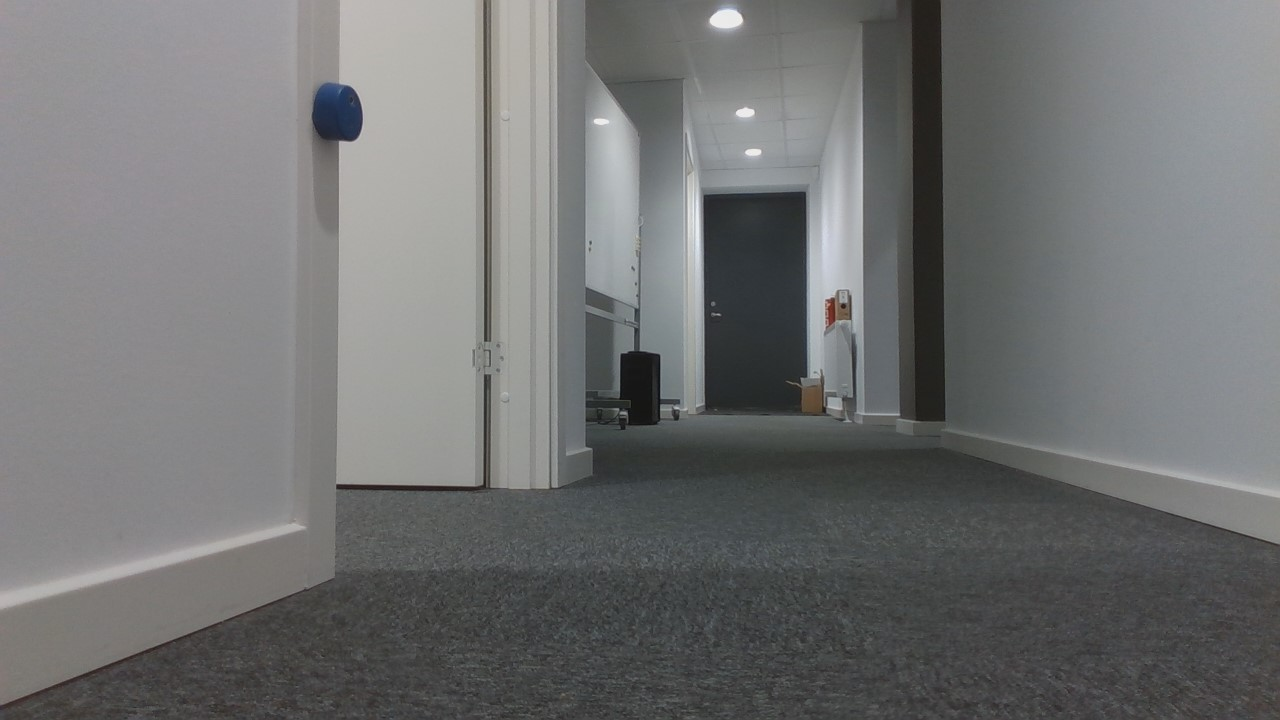alfa: (312, 81, 364, 143)
